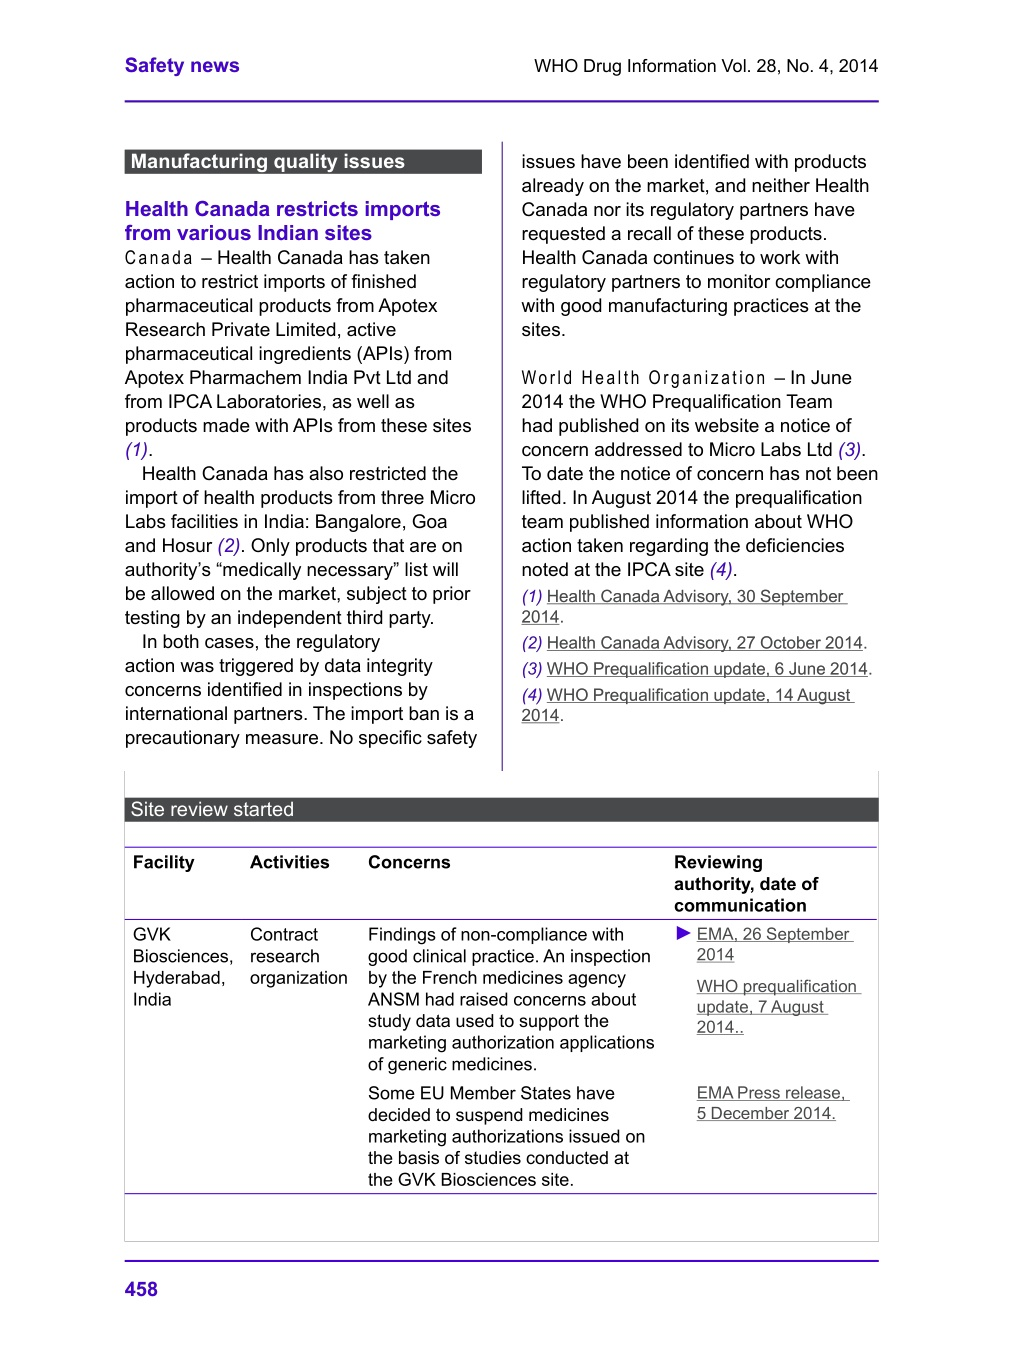partial_lined_merged_cells: (122, 797, 882, 1242)
